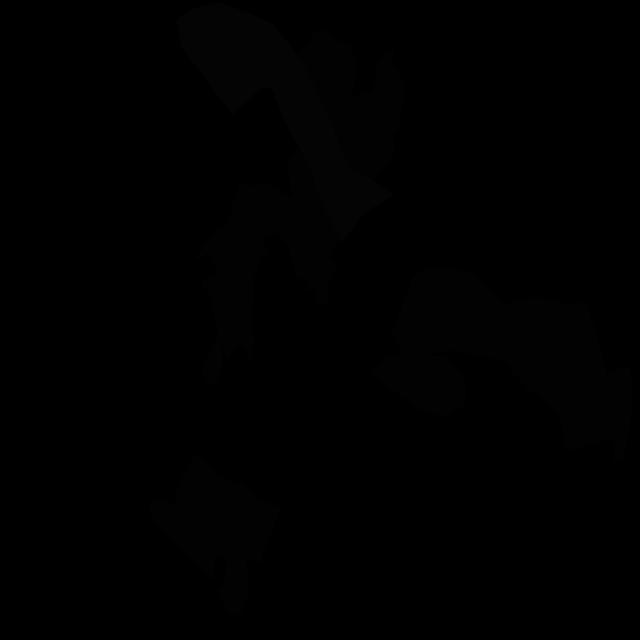cardboard: (391, 268, 633, 461), (194, 147, 340, 367), (149, 453, 281, 615), (298, 29, 405, 181), (371, 353, 466, 417), (202, 339, 223, 386)
soft_plastic: (176, 2, 394, 242)
